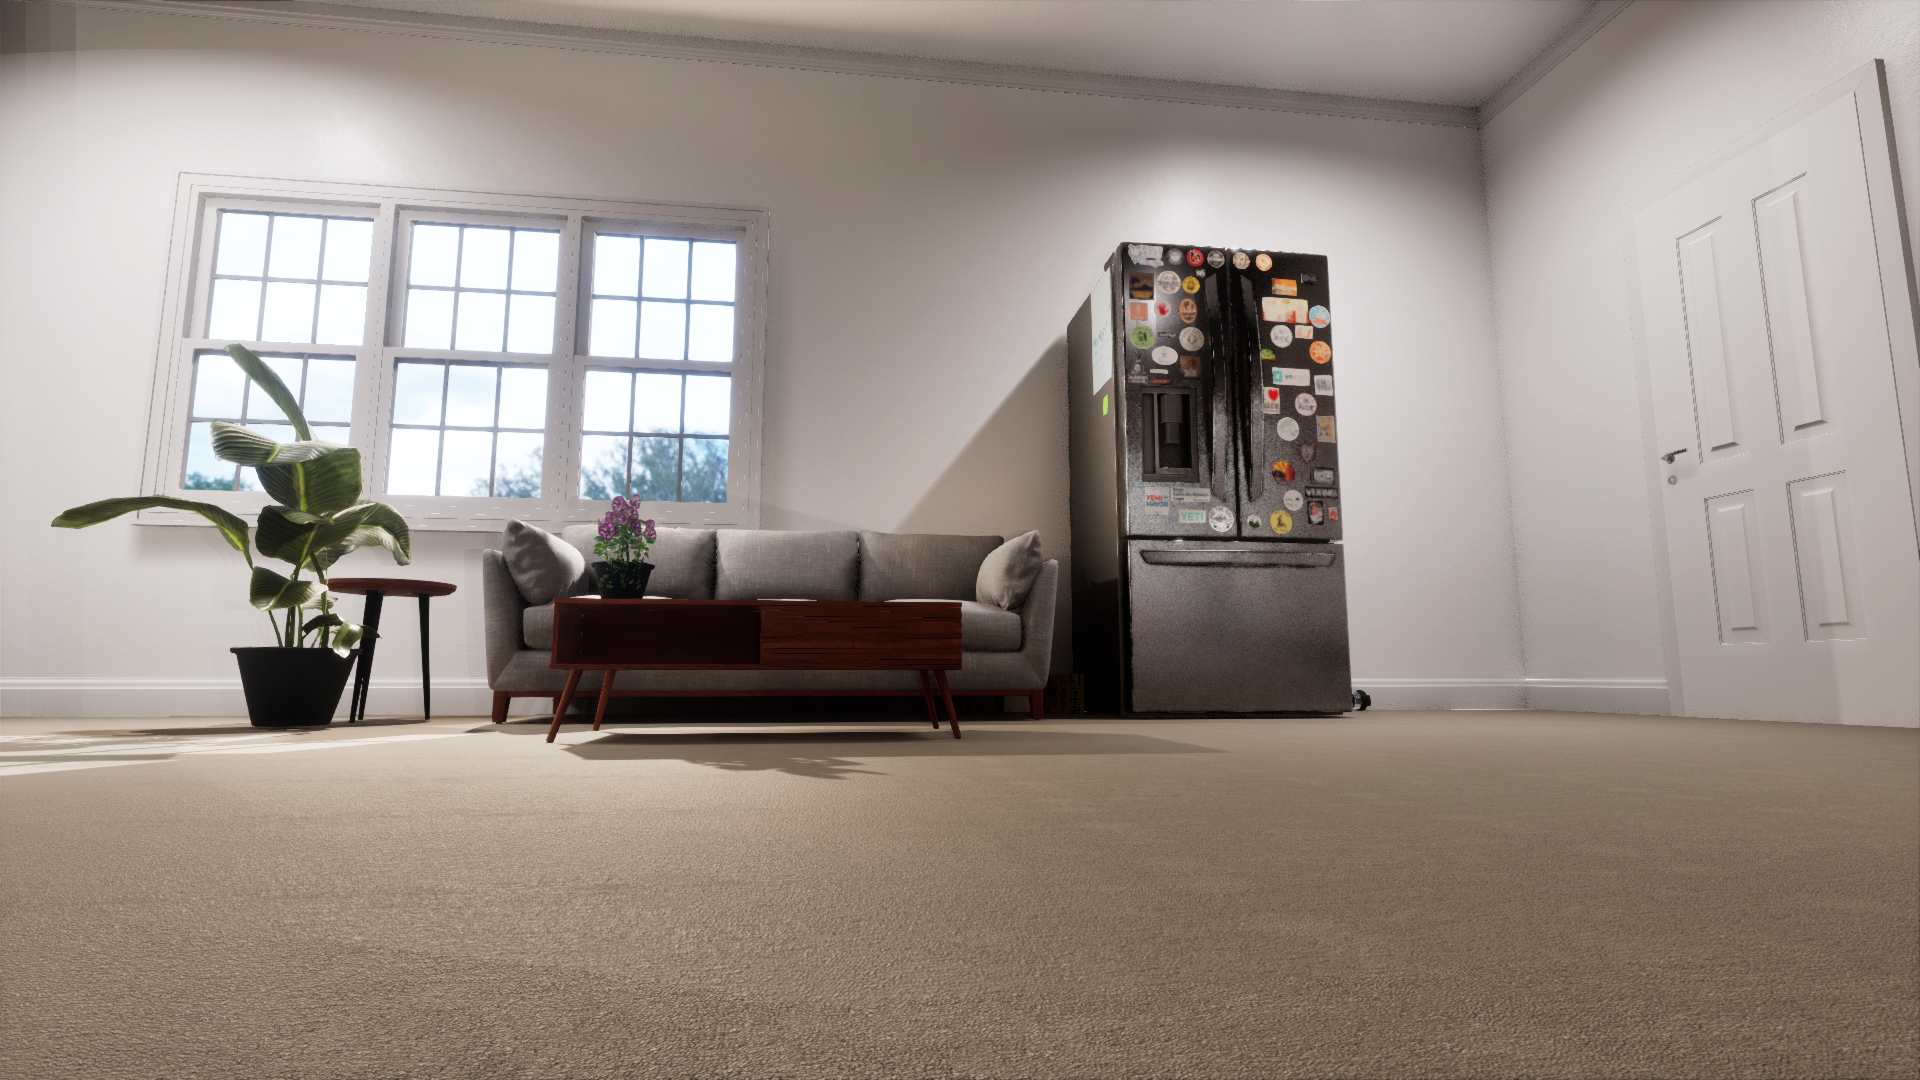cheerios: (1043, 674, 1084, 715)
soup: (952, 700, 972, 715)
